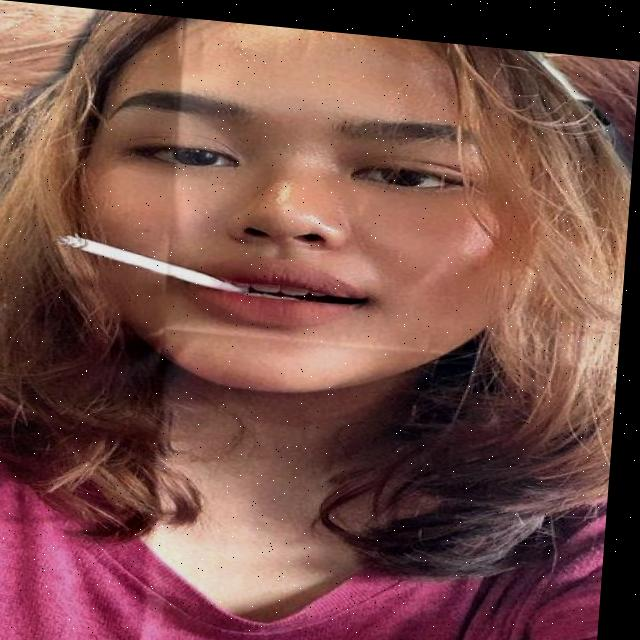cigarette: (62, 230, 251, 288)
